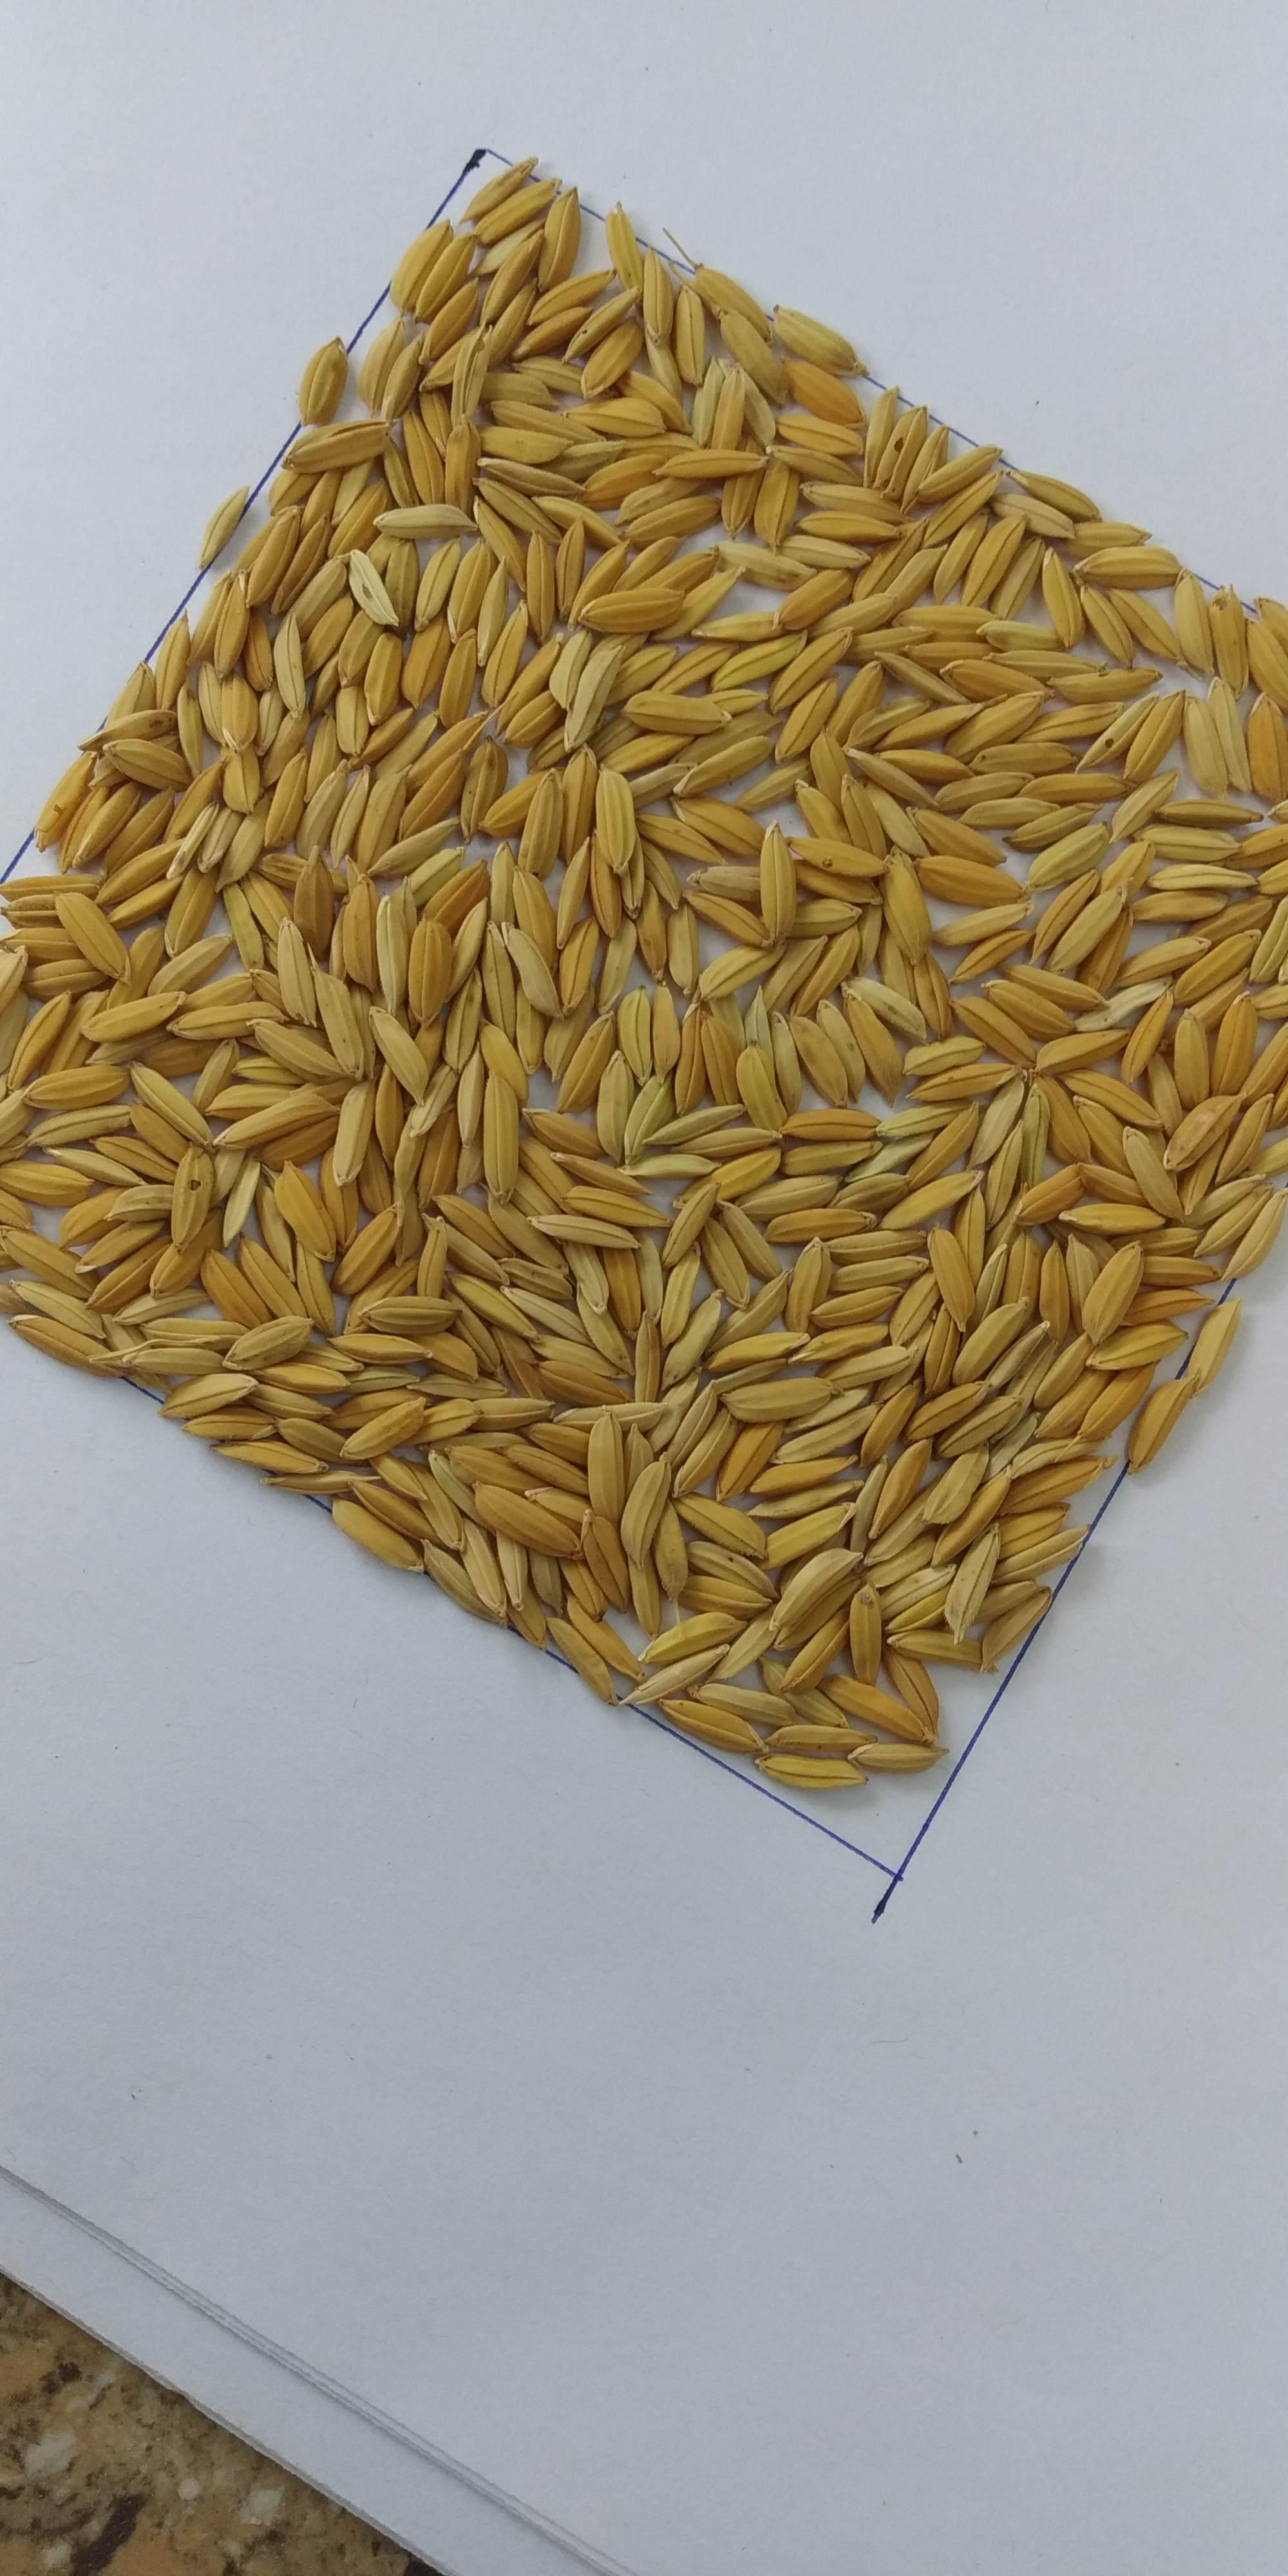pure: (217, 452, 1053, 1408)
